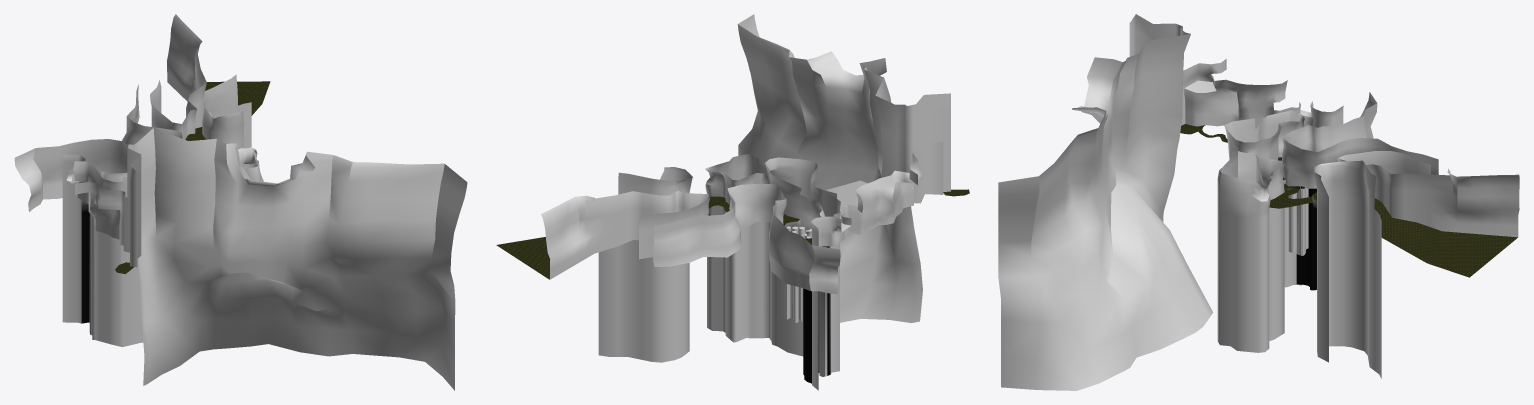
3 views of the same model, side by side, from view 1: azimuth 30°, elevation 25°; view 2: azimuth 150°, elevation 25°; view 3: azimuth 270°, elevation 25° (orthographic). The views are drawn at different scales.
Parts seen in each view (by area): view 1: Cliff North High, Cliff West 2 High, Cliff East 2 High, Cliff East 1 High, Cliff West 1 High, Ground 1 High, Cliff High; view 2: Cliff North High, Cliff West 2 High, Cliff West 1 High, Cliff East 2 High, Cliff East 1 High, Ground 1 High, Cliff High, Cliff West 2 High.001; view 3: Cliff North High, Cliff West 2 High, Cliff West 1 High, Cliff East 1 High, Ground 1 High, Cliff East 2 High, Cliff High, Cliff West 2 High.001.
Part boxes in pixels (left/top/right/bottom): Cliff North High: left=62, top=128, right=467, bottom=390; Cliff West 2 High: left=89, top=147, right=263, bottom=346; Cliff East 2 High: left=14, top=84, right=182, bottom=212; Cliff East 1 High: left=150, top=14, right=206, bottom=139; Cliff West 1 High: left=202, top=74, right=251, bottom=149; Ground 1 High: left=115, top=81, right=270, bottom=274; Cliff High: left=81, top=200, right=89, bottom=323; Cliff North High: left=737, top=14, right=950, bottom=390; Cliff West 2 High: left=705, top=154, right=840, bottom=376; Cliff West 1 High: left=598, top=167, right=693, bottom=362; Cliff East 2 High: left=653, top=183, right=840, bottom=293; Cliff East 1 High: left=541, top=191, right=709, bottom=279; Ground 1 High: left=496, top=189, right=969, bottom=279; Cliff High: left=784, top=219, right=819, bottom=383; Cliff West 2 High.001: left=782, top=226, right=811, bottom=322; Cliff North High: left=998, top=14, right=1343, bottom=390; Cliff West 2 High: left=1217, top=110, right=1304, bottom=352; Cliff West 1 High: left=1314, top=160, right=1381, bottom=378; Cliff East 1 High: left=1337, top=151, right=1519, bottom=237; Ground 1 High: left=1180, top=124, right=1517, bottom=277; Cliff East 2 High: left=1281, top=92, right=1438, bottom=188; Cliff High: left=1283, top=180, right=1316, bottom=290; Cliff West 2 High.001: left=1288, top=186, right=1308, bottom=255.
Size of the model in its own units: 50612 by 37164 by 69960.
